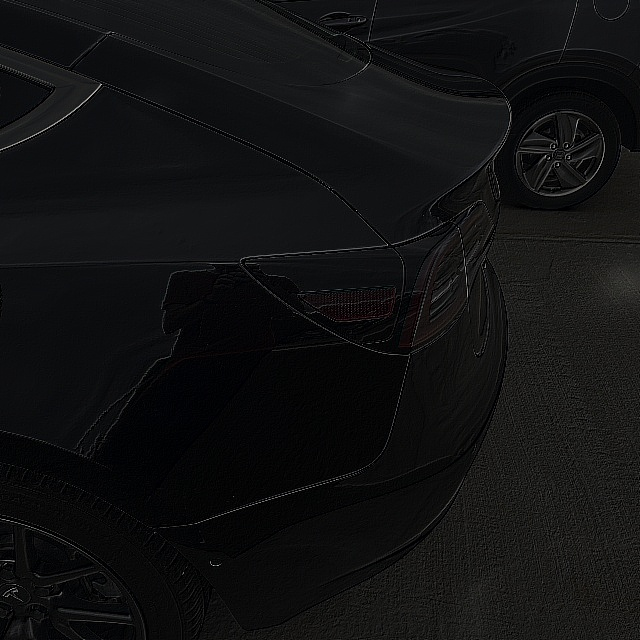reflector: (297, 286, 397, 322)
